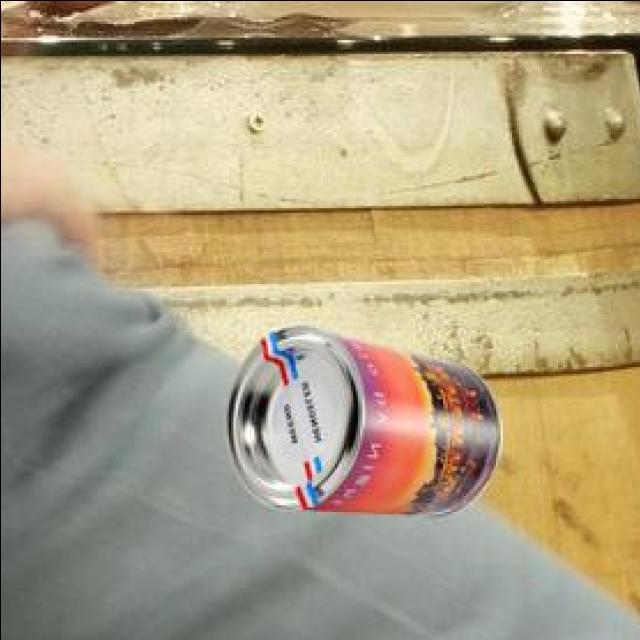logam: (231, 321, 503, 512)
